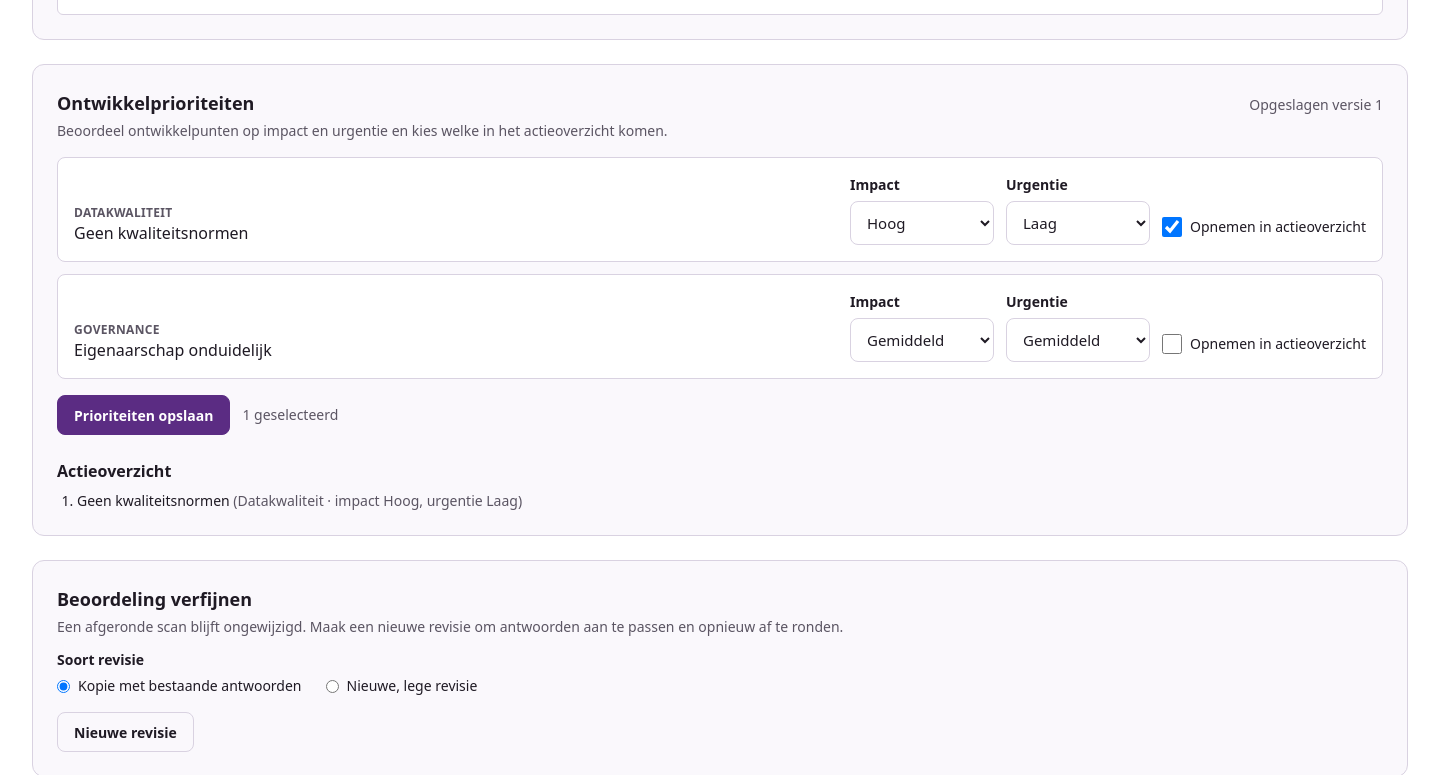
Test: ScanResultsComponent › shows an actionable error when saving priorities fails
This screenshot has width=1440, height=775.
(page scrolled)
Click the button "Prioriteiten opslaan" at (144,415), box [57, 395, 230, 435]
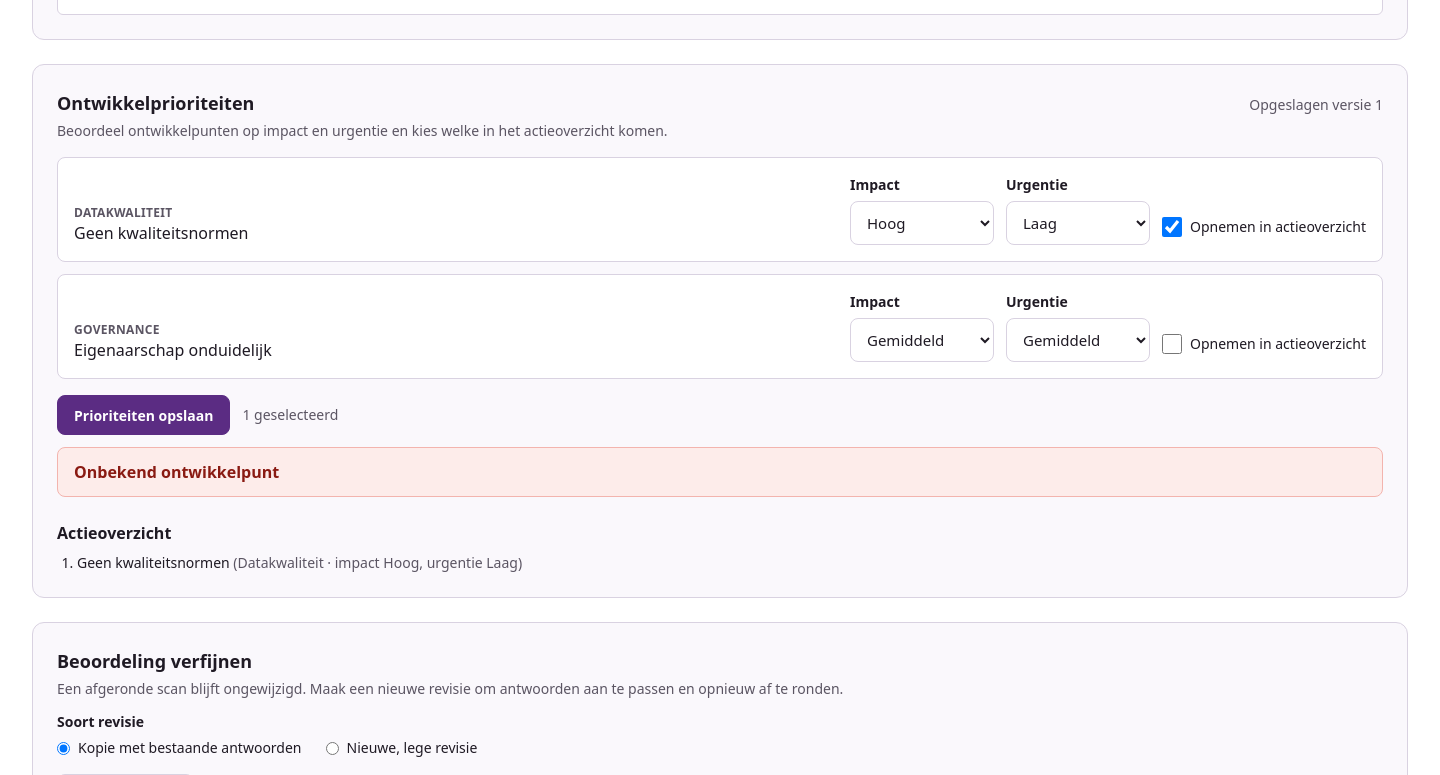
Now the text "Onbekend ontwikkelpunt" is shown, box [74, 461, 279, 483]
